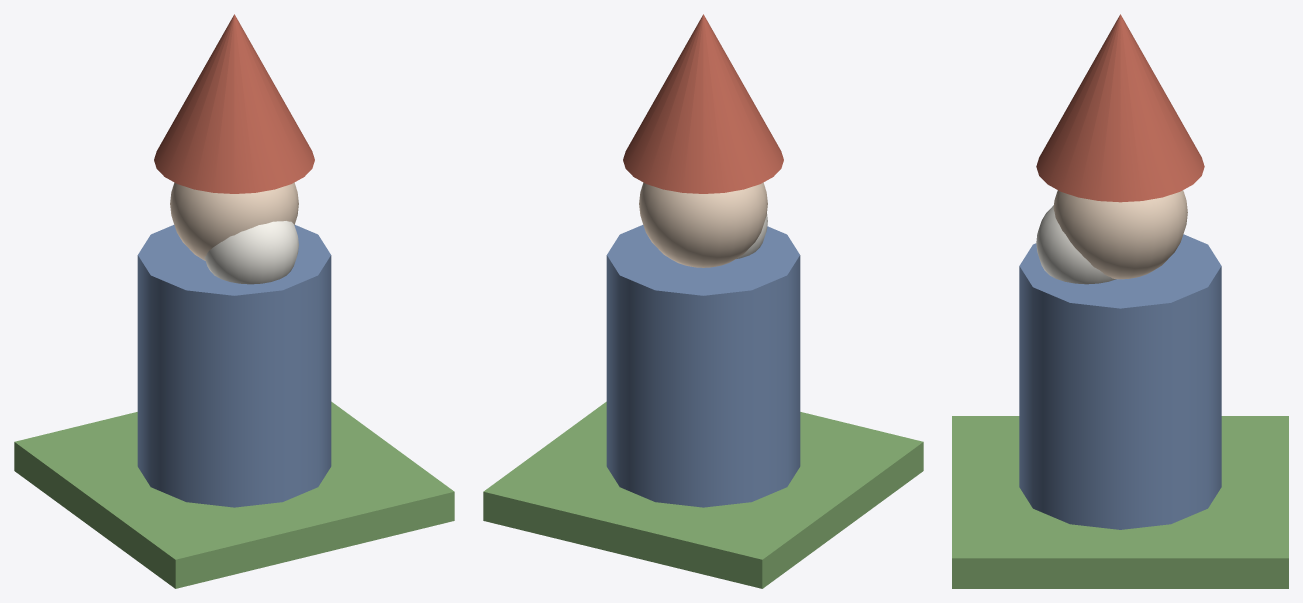
The model's file is garden_gnome.glb.
3 renders of one model, left to right at view 1: azimuth 30°, elevation 25°; view 2: azimuth 150°, elevation 25°; view 3: azimuth 270°, elevation 25°, orthographic. The views are drawn at different scales.
Parts seen in each view (by area): view 1: body, grass_patch, hat, head, beard; view 2: body, grass_patch, hat, head; view 3: body, grass_patch, hat, head, beard.
Part boxes in pixels (<box>): body: <box>137,225,331,507</box>; grass_patch: <box>14,401,454,588</box>; hat: <box>154,14,314,193</box>; head: <box>170,182,298,260</box>; beard: <box>204,221,298,284</box>; body: <box>606,225,800,507</box>; grass_patch: <box>483,401,923,588</box>; hat: <box>623,14,783,193</box>; head: <box>639,182,767,267</box>; body: <box>1019,234,1221,529</box>; grass_patch: <box>952,416,1288,588</box>; hat: <box>1036,14,1204,202</box>; head: <box>1053,190,1187,279</box>; beard: <box>1036,205,1116,284</box>.
Bounding box in the file's own units: 0.4 × 0.68 × 0.4.
